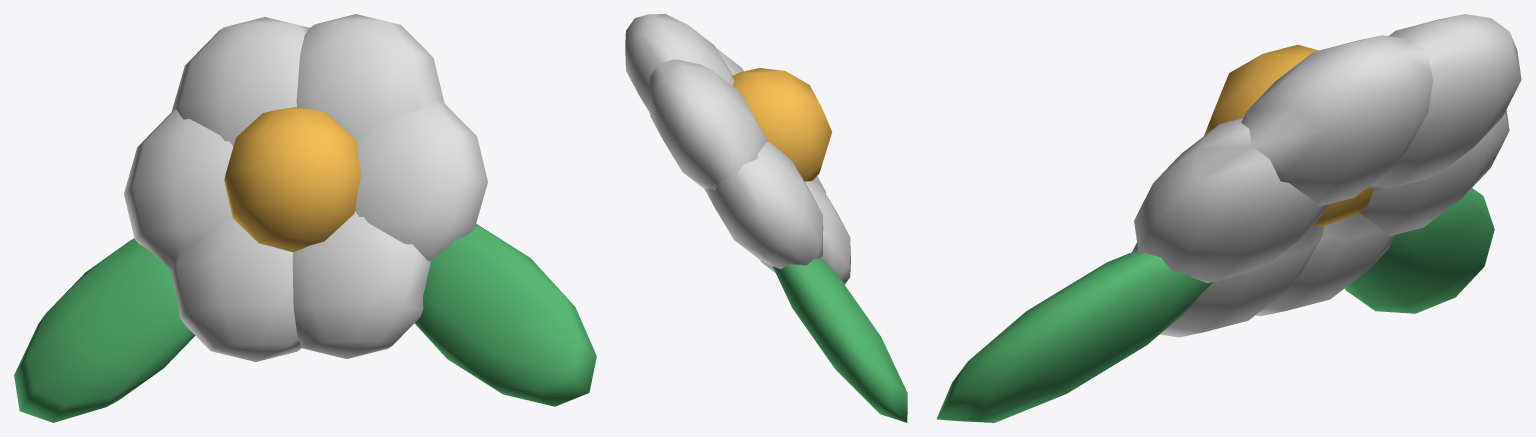
The model's file is flower_pin.glb.
3 views of the same model, side by side, from view 1: azimuth 30°, elevation 25°; view 2: azimuth 150°, elevation 25°; view 3: azimuth 270°, elevation 25° (orthographic). The views are drawn at different scales.
Visible parts, largest first — view 1: flower_pin; view 2: flower_pin; view 3: flower_pin.
Part boxes in pixels (x1,y1,x2,y2): flower_pin: (14,14,596,422); flower_pin: (625,14,907,422); flower_pin: (936,14,1521,422).
Bounding box in the file's own units: 0.353 × 0.3035 × 0.364.
